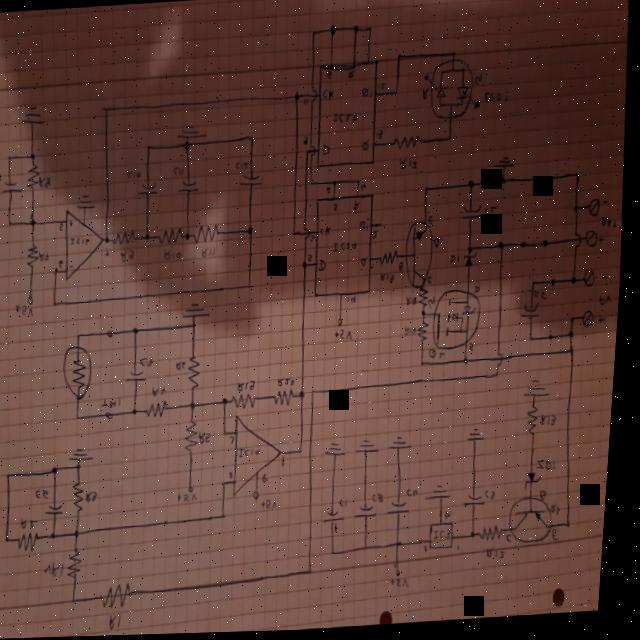capacitor: (328, 511, 351, 534), (358, 505, 385, 523), (523, 301, 545, 323), (177, 177, 201, 197), (138, 180, 162, 200), (391, 501, 417, 519), (1, 178, 25, 197), (238, 173, 265, 189), (462, 206, 486, 223), (468, 495, 491, 510), (50, 502, 69, 517), (130, 369, 150, 383)
crossover: (575, 234, 585, 251), (310, 89, 318, 103), (500, 355, 507, 369), (305, 228, 313, 240), (310, 147, 317, 158)
diode: (419, 57, 484, 125), (529, 473, 548, 492), (464, 254, 480, 270)
ground: (526, 380, 554, 404), (358, 438, 386, 458), (176, 123, 208, 140), (20, 104, 45, 124), (185, 302, 214, 319), (429, 486, 457, 503), (393, 436, 419, 454), (328, 441, 352, 460), (76, 193, 98, 210), (495, 156, 516, 172), (471, 429, 491, 445), (73, 448, 97, 461)
junction: (328, 25, 336, 37), (468, 181, 477, 191), (183, 141, 191, 151), (500, 242, 507, 253), (573, 278, 580, 289), (56, 531, 64, 540), (303, 390, 310, 400), (31, 217, 38, 227), (293, 93, 300, 103), (401, 542, 409, 550), (135, 326, 143, 334), (193, 401, 200, 410), (79, 529, 86, 538), (135, 407, 142, 416), (30, 151, 37, 160), (77, 596, 84, 605), (571, 333, 578, 342), (304, 261, 311, 270), (80, 462, 87, 471), (575, 206, 581, 216), (352, 27, 359, 35), (302, 448, 309, 456), (501, 179, 508, 187), (102, 105, 109, 113), (194, 322, 201, 330), (56, 466, 62, 475), (10, 535, 16, 544), (249, 135, 255, 144), (476, 532, 482, 541), (249, 227, 255, 236), (333, 180, 339, 189), (544, 241, 550, 250), (146, 233, 152, 241), (146, 143, 152, 151), (425, 187, 431, 195), (576, 174, 582, 182), (226, 513, 232, 521), (79, 331, 85, 339), (571, 524, 577, 532), (572, 350, 578, 358), (226, 398, 232, 406), (469, 247, 475, 255), (553, 281, 559, 289), (522, 243, 528, 251), (313, 569, 319, 576), (79, 414, 85, 421), (573, 318, 578, 326), (11, 471, 16, 479), (55, 300, 60, 308), (106, 236, 111, 244), (467, 358, 472, 366), (56, 267, 61, 275), (424, 312, 430, 318), (532, 338, 537, 345), (370, 546, 375, 553), (423, 362, 428, 369), (187, 233, 191, 241), (394, 92, 399, 98), (311, 31, 316, 37), (227, 431, 232, 437), (250, 284, 255, 290), (498, 374, 503, 380), (396, 55, 401, 61), (310, 181, 315, 187), (448, 137, 452, 144), (367, 27, 371, 34), (9, 220, 13, 227), (315, 389, 319, 396), (552, 336, 556, 343), (337, 551, 341, 557), (8, 155, 12, 161), (227, 481, 231, 487), (534, 283, 538, 289), (294, 232, 298, 238), (451, 53, 455, 59), (306, 150, 310, 156), (358, 179, 362, 185)
resistor: (64, 345, 98, 399), (104, 582, 140, 610), (72, 547, 91, 580), (21, 529, 46, 552), (195, 224, 221, 246), (187, 421, 204, 453), (190, 354, 205, 390), (484, 526, 510, 546), (393, 136, 423, 153), (529, 407, 544, 440), (76, 481, 91, 513), (148, 401, 173, 420), (159, 228, 186, 245), (26, 162, 42, 190), (234, 393, 260, 410), (112, 230, 138, 247), (277, 390, 299, 408), (380, 251, 402, 268), (27, 243, 42, 267), (420, 324, 433, 344), (420, 289, 432, 309)
terminal: (586, 232, 601, 251), (589, 201, 603, 220), (584, 312, 598, 330), (586, 272, 598, 290), (257, 490, 266, 500), (400, 570, 409, 578), (29, 295, 36, 305), (110, 411, 117, 419), (340, 319, 346, 328), (193, 485, 199, 493), (111, 330, 115, 336), (381, 224, 385, 228)
text: (484, 92, 509, 108), (49, 561, 70, 579), (333, 112, 358, 127), (243, 446, 266, 462), (334, 241, 359, 255), (105, 396, 126, 411), (72, 234, 93, 249), (18, 301, 37, 317), (399, 158, 419, 173), (492, 549, 513, 562), (127, 166, 144, 182), (115, 614, 130, 632), (166, 249, 185, 263), (183, 491, 203, 504), (545, 415, 562, 430), (241, 380, 259, 394), (397, 578, 416, 591), (542, 461, 561, 474), (266, 499, 283, 513), (338, 330, 356, 343), (438, 530, 456, 543), (202, 430, 217, 445), (89, 488, 104, 503), (383, 272, 399, 286), (603, 218, 619, 232), (25, 517, 42, 530), (432, 349, 449, 362), (122, 249, 137, 263), (360, 85, 374, 100), (281, 378, 300, 389), (203, 247, 219, 260), (360, 218, 372, 235), (142, 356, 157, 369), (156, 386, 171, 398), (602, 296, 615, 309), (321, 224, 334, 237), (40, 488, 54, 500), (554, 506, 567, 518), (40, 248, 52, 261), (40, 175, 53, 187), (537, 292, 551, 303), (408, 326, 420, 338), (174, 165, 186, 177), (322, 90, 334, 102), (377, 494, 390, 505), (408, 297, 421, 308), (411, 490, 424, 500), (421, 88, 430, 102), (320, 260, 329, 274), (490, 492, 501, 503), (179, 360, 190, 371), (236, 161, 248, 171), (436, 238, 445, 251), (362, 141, 371, 154), (485, 208, 499, 216), (452, 255, 462, 266), (349, 296, 360, 306), (361, 257, 370, 269), (323, 145, 332, 157), (344, 499, 354, 509), (601, 316, 610, 327), (376, 130, 384, 142), (557, 531, 565, 543), (475, 75, 483, 87), (347, 69, 355, 81), (354, 200, 361, 213), (326, 70, 333, 82), (377, 83, 386, 92), (373, 231, 381, 241), (267, 473, 274, 484), (334, 202, 340, 214), (545, 492, 552, 502), (471, 344, 478, 354), (432, 299, 439, 309), (400, 263, 407, 273), (429, 277, 436, 287), (233, 435, 240, 445), (361, 183, 368, 193), (59, 222, 66, 231), (451, 513, 458, 522), (303, 137, 309, 147), (513, 536, 519, 546), (430, 216, 436, 226), (60, 259, 66, 269), (476, 288, 483, 296), (286, 455, 290, 468), (303, 98, 308, 108), (600, 239, 606, 247), (106, 249, 112, 257), (327, 187, 333, 195), (309, 255, 315, 263), (372, 264, 378, 272), (462, 545, 467, 554), (233, 471, 238, 480), (70, 218, 75, 227), (604, 277, 611, 283), (430, 546, 435, 554), (312, 235, 317, 243), (71, 262, 76, 270), (604, 202, 610, 208), (0, 171, 2, 182)
transistor: (432, 288, 487, 355), (512, 497, 562, 547), (404, 221, 437, 292)
